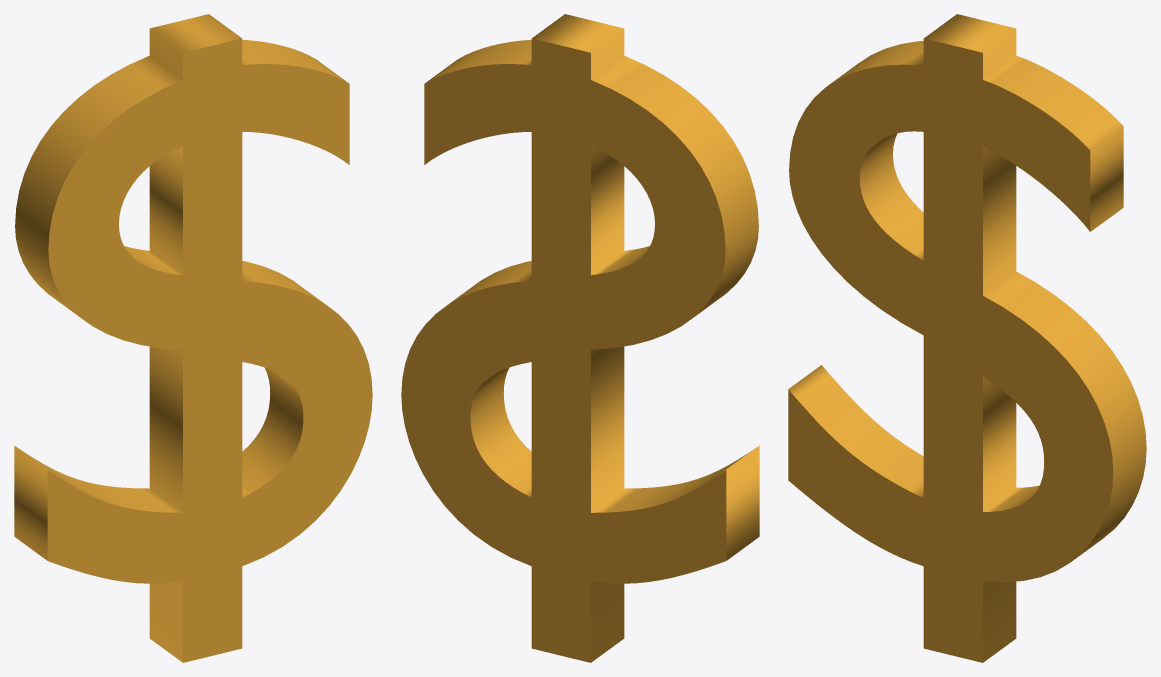
File: dollar_sign-DXHkhzkH.glb
The picture shows the model from 3 angles, left to right: view 1: azimuth 30°, elevation 25°; view 2: azimuth 150°, elevation 25°; view 3: azimuth 330°, elevation 25°; orthographic projection.
Visible parts, largest first — view 1: Text; view 2: Text; view 3: Text.
Boxes of the visible parts, box(x1,y1,x2,y2) form: Text: box(14, 14, 372, 662); Text: box(401, 14, 759, 662); Text: box(788, 14, 1146, 662).
Size of the model in its own units: 0.5546 by 0.9949 by 0.0984.
